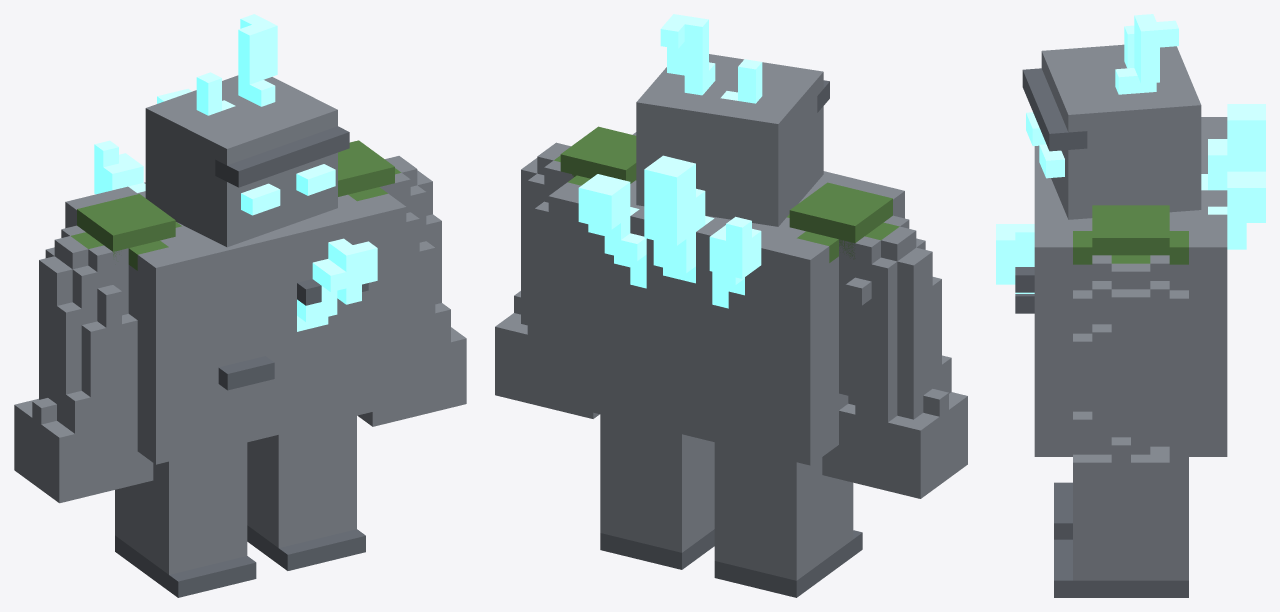
Rendered from Mascota_Piedrin.glb.
3 renders of one model, left to right at view 1: azimuth 30°, elevation 25°; view 2: azimuth 150°, elevation 25°; view 3: azimuth 270°, elevation 25°, orthographic. The views are drawn at different scales.
Visible parts, largest first — view 1: Pedrusco_Torso, Pedrusco_Cabeza, Pedrusco_Brazo2, Pedrusco_Pierna2, Pedrusco_Pierna1, Pedrusco_Brazo1; view 2: Pedrusco_Torso, Pedrusco_Brazo2, Pedrusco_Cabeza, Pedrusco_Pierna2, Pedrusco_Pierna1, Pedrusco_Brazo1; view 3: Pedrusco_Torso, Pedrusco_Cabeza, Pedrusco_Brazo1, Pedrusco_Pierna1, Pedrusco_Pierna2.
Boxes of the visible parts, left/top/right/bottom form: Pedrusco_Torso: left=65, top=88, right=406, bottom=464; Pedrusco_Cabeza: left=145, top=14, right=349, bottom=247; Pedrusco_Brazo2: left=14, top=225, right=153, bottom=503; Pedrusco_Pierna2: left=115, top=442, right=256, bottom=597; Pedrusco_Pierna1: left=247, top=415, right=365, bottom=570; Pedrusco_Brazo1: left=357, top=156, right=466, bottom=426; Pedrusco_Torso: left=548, top=126, right=904, bottom=465; Pedrusco_Brazo2: left=822, top=215, right=967, bottom=498; Pedrusco_Cabeza: left=636, top=14, right=829, bottom=226; Pedrusco_Pierna2: left=714, top=442, right=862, bottom=597; Pedrusco_Pierna1: left=600, top=414, right=714, bottom=569; Pedrusco_Brazo1: left=495, top=142, right=599, bottom=418; Pedrusco_Torso: left=996, top=104, right=1265, bottom=456; Pedrusco_Cabeza: left=1022, top=14, right=1201, bottom=219; Pedrusco_Brazo1: left=1073, top=255, right=1188, bottom=532; Pedrusco_Pierna1: left=1054, top=457, right=1188, bottom=597; Pedrusco_Pierna2: left=1054, top=482, right=1072, bottom=539.
Size of the model in its own units: 1.09 by 1.3 by 0.588.
